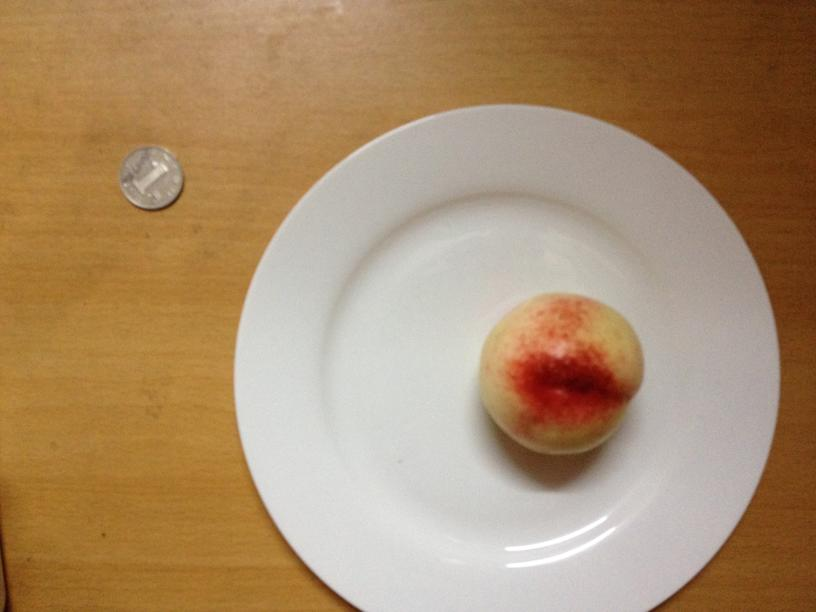coin: (117, 146, 186, 211)
peach: (480, 289, 642, 459)
